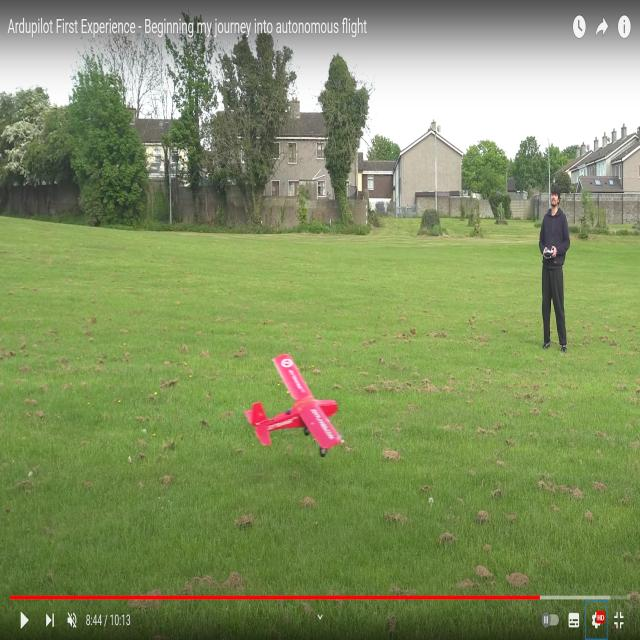iha: (276, 384, 312, 425)
